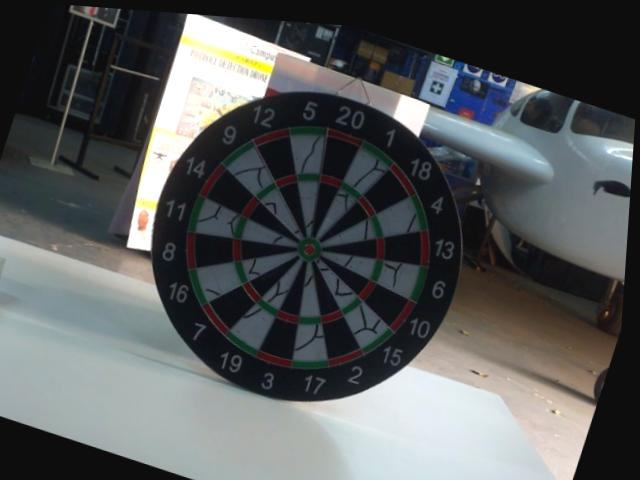bullseye: (297, 242, 321, 264)
